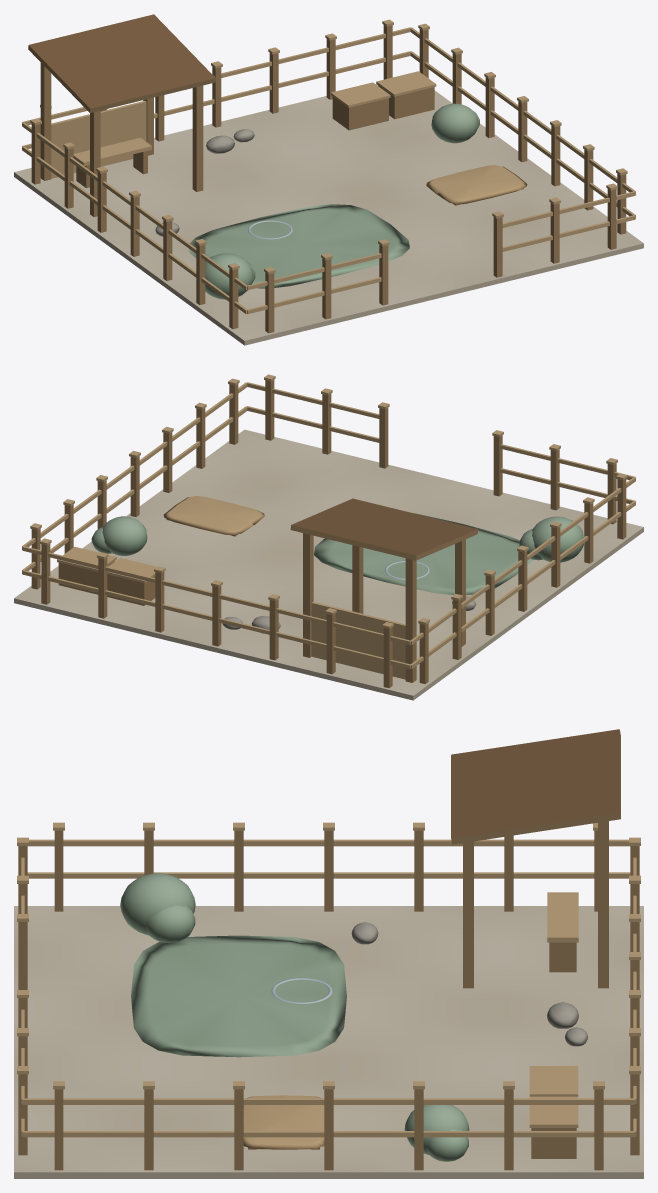
Rendered from school_courtyard.glb.
3 views of the same model, one above another, from view 1: azimuth 30°, elevation 25°; view 2: azimuth 150°, elevation 25°; view 3: azimuth 270°, elevation 25° (orthographic). The views are drawn at different scales.
Visible parts, largest first — view 1: school_courtyard; view 2: school_courtyard; view 3: school_courtyard.
Part boxes in pixels (x1,y1,x2,y2): school_courtyard: (14,14,643,345); school_courtyard: (14,374,643,700); school_courtyard: (14,729,643,1178).
Size of the model in its own units: 7 by 2.3 by 7.
